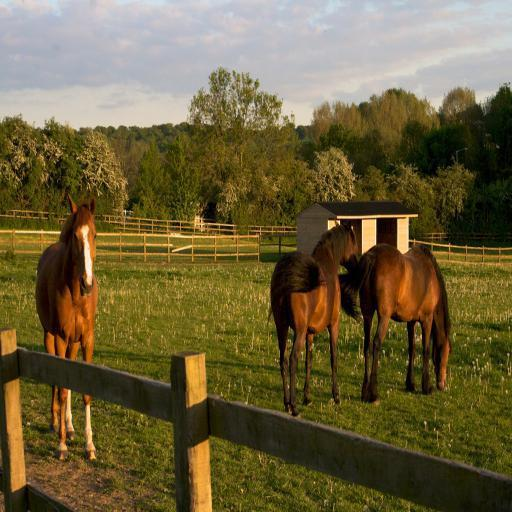horse: (270, 214, 359, 419), (34, 193, 99, 467), (356, 243, 454, 411)
